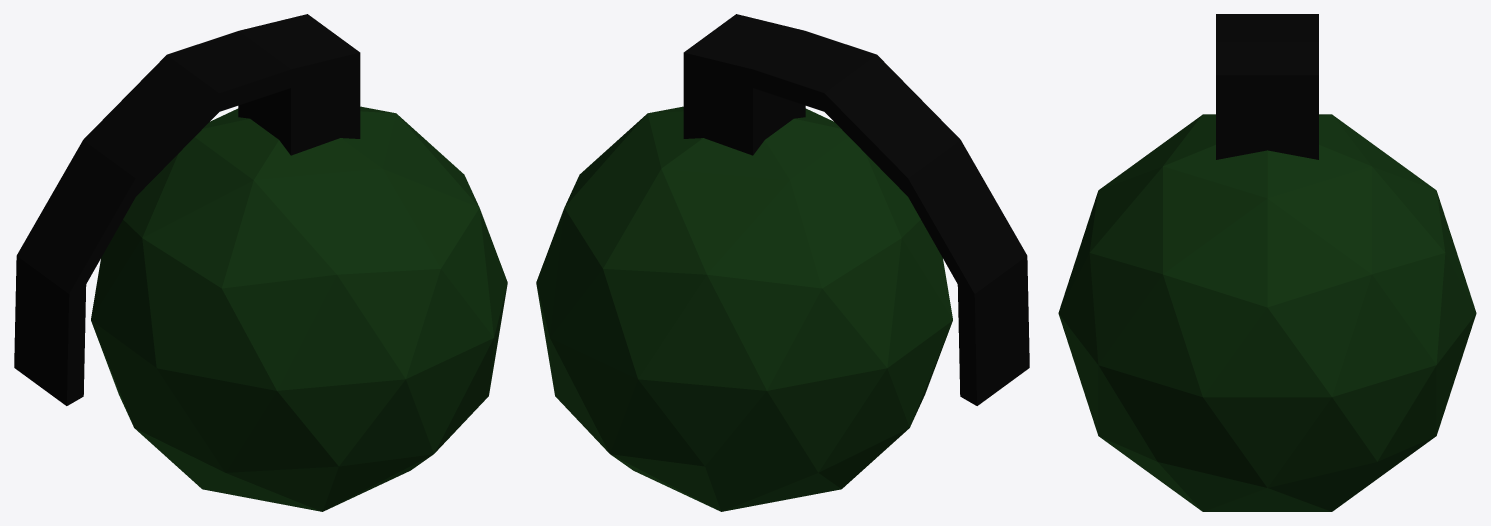
The model's file is grenade.fbx.
3 renders of one model, left to right at view 1: azimuth 30°, elevation 25°; view 2: azimuth 150°, elevation 25°; view 3: azimuth 270°, elevation 25°, orthographic.
Visible parts, largest first — view 1: Icosphere, Cube; view 2: Icosphere, Cube; view 3: Icosphere, Cube.
Boxes of the visible parts, <box> form: Icosphere: <box>91,106,507,511</box>; Cube: <box>14,14,360,405</box>; Icosphere: <box>536,106,952,511</box>; Cube: <box>683,14,1029,405</box>; Icosphere: <box>1058,114,1476,511</box>; Cube: <box>1216,14,1318,159</box>.
Size of the model in its own units: 235 by 234 by 200.
